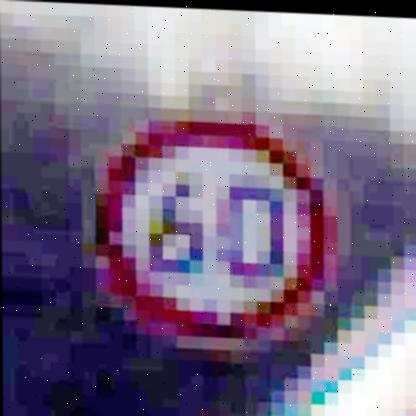Speed Limit -60-: (87, 100, 343, 351)
